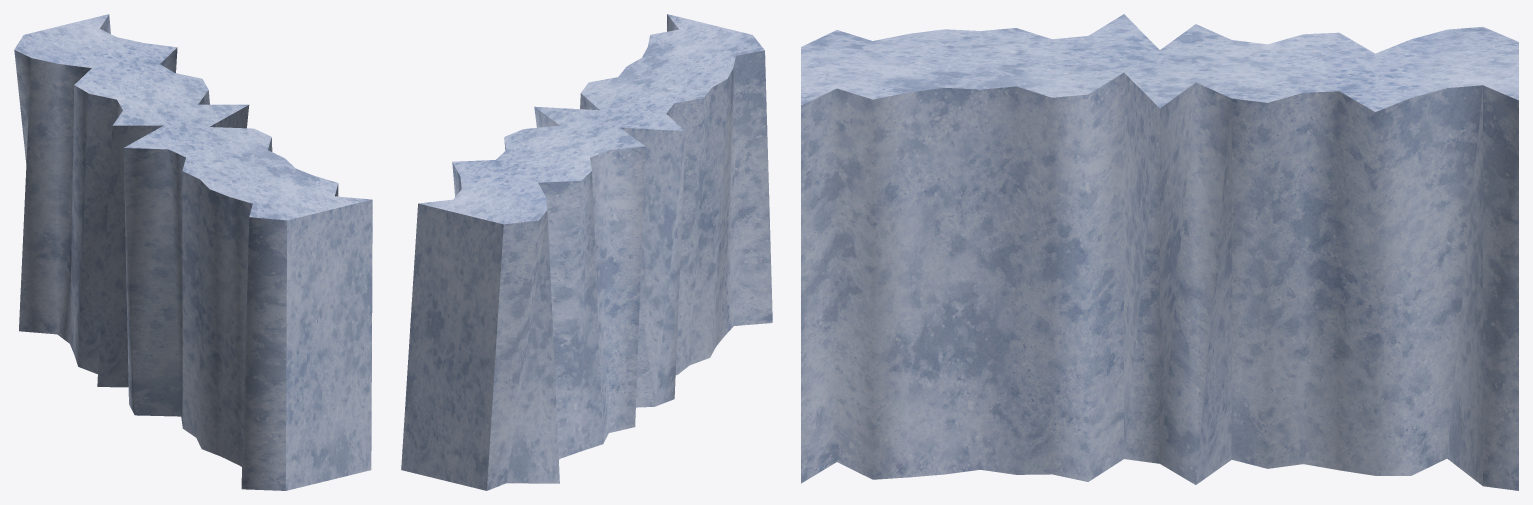
Rendered from Wall02_Mapa09_GoT.FBX.
3 renders of one model, left to right at view 1: azimuth 30°, elevation 25°; view 2: azimuth 150°, elevation 25°; view 3: azimuth 270°, elevation 25°, orthographic. The views are drawn at different scales.
Parts seen in each view (by area): view 1: Box002; view 2: Box002; view 3: Box002.
Boxes of the visible parts, <box> form: Box002: <box>14,14,372,490</box>; Box002: <box>401,14,772,490</box>; Box002: <box>801,14,1518,490</box>.
Size of the model in its own units: 986 by 1774 by 3046.
